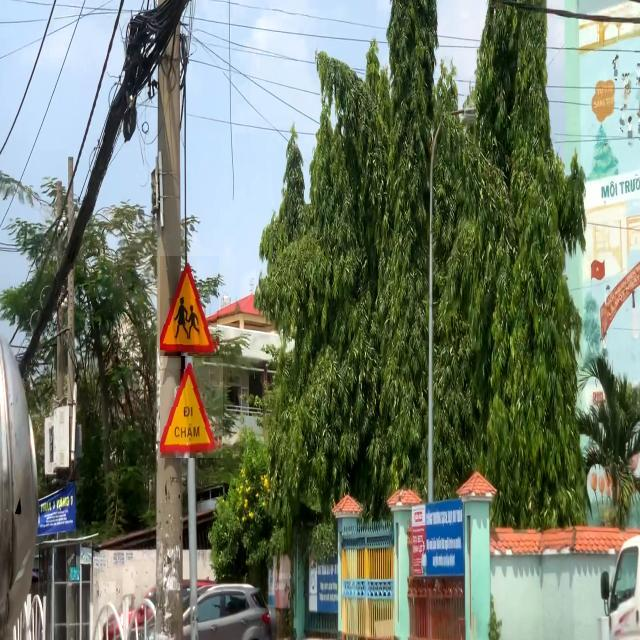W-225: (160, 256, 219, 356)
W-245a: (160, 359, 223, 459)
